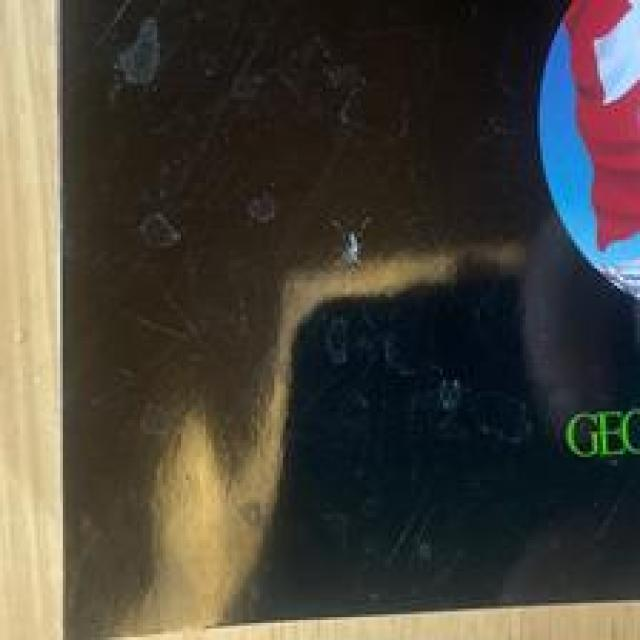Aedes albopictus: (560, 0, 640, 254)
